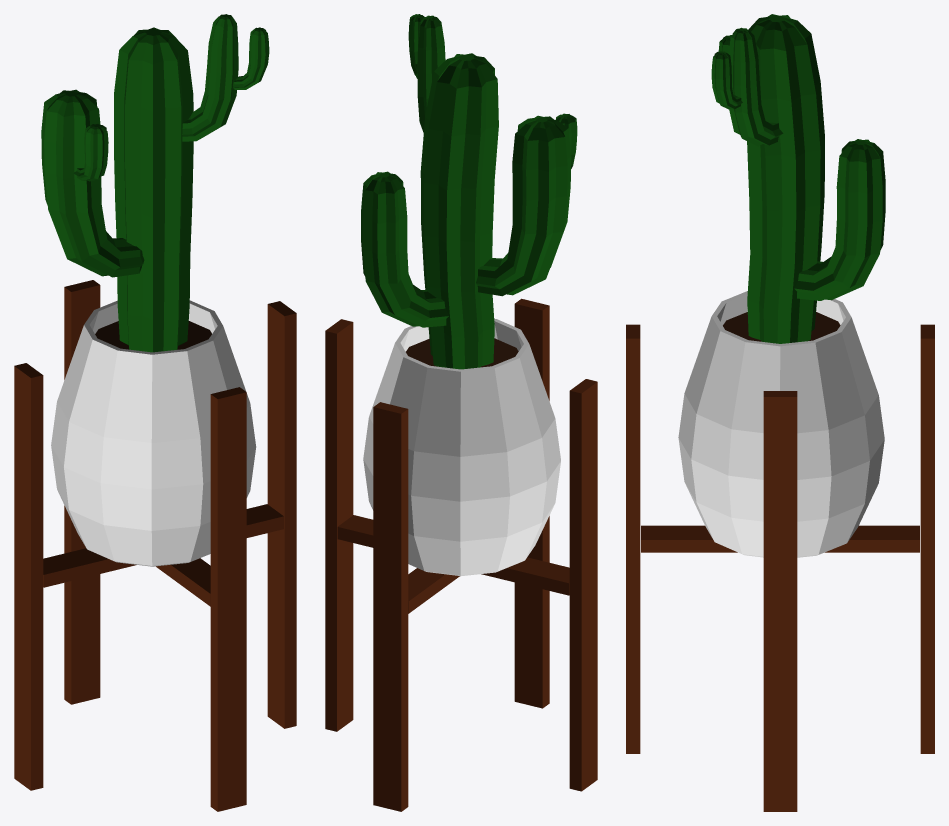
The model's file is Plant Stand.fbx.
3 renders of one model, left to right at view 1: azimuth 30°, elevation 25°; view 2: azimuth 150°, elevation 25°; view 3: azimuth 270°, elevation 25°, orthographic. The views are drawn at different scales.
Visible parts, largest first — view 1: Node 1, Node 0; view 2: Node 1, Node 0; view 3: Node 1, Node 0.
Boxes of the visible parts, box(x1,y1,x2,y2) form: Node 1: box(41, 14, 269, 566); Node 0: box(14, 280, 296, 811); Node 1: box(361, 14, 577, 576); Node 0: box(325, 298, 597, 811); Node 1: box(678, 14, 885, 557); Node 0: box(626, 324, 934, 811).
Size of the model in its own units: 0.4028 by 1.07 by 0.4028.
